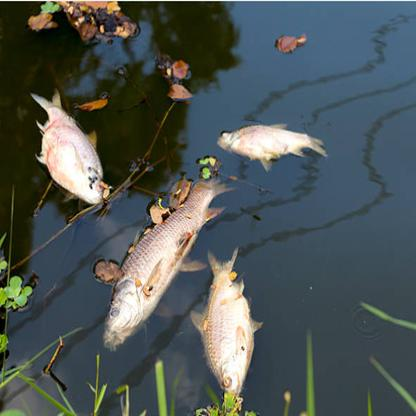deceased fish: (103, 169, 230, 346), (197, 251, 260, 401), (32, 90, 105, 207), (220, 123, 329, 166)
